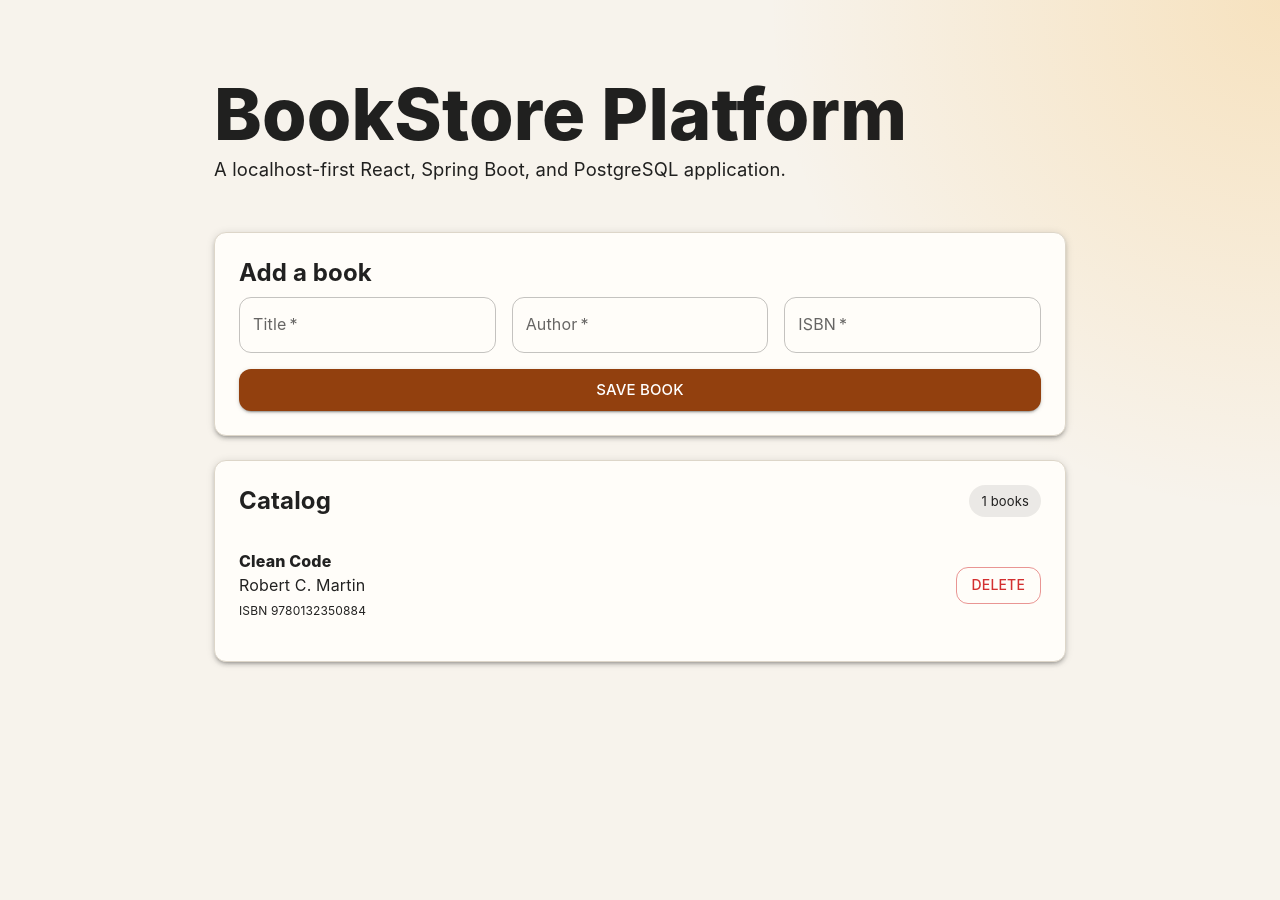
Test: App › shows an error and keeps the book when deletion fails
This screenshot has width=1280, height=900.
Expected: the text "Clean Code" is shown, [239,551,331,571]
Click the button "Delete": (998, 585) [956,567,1041,604]
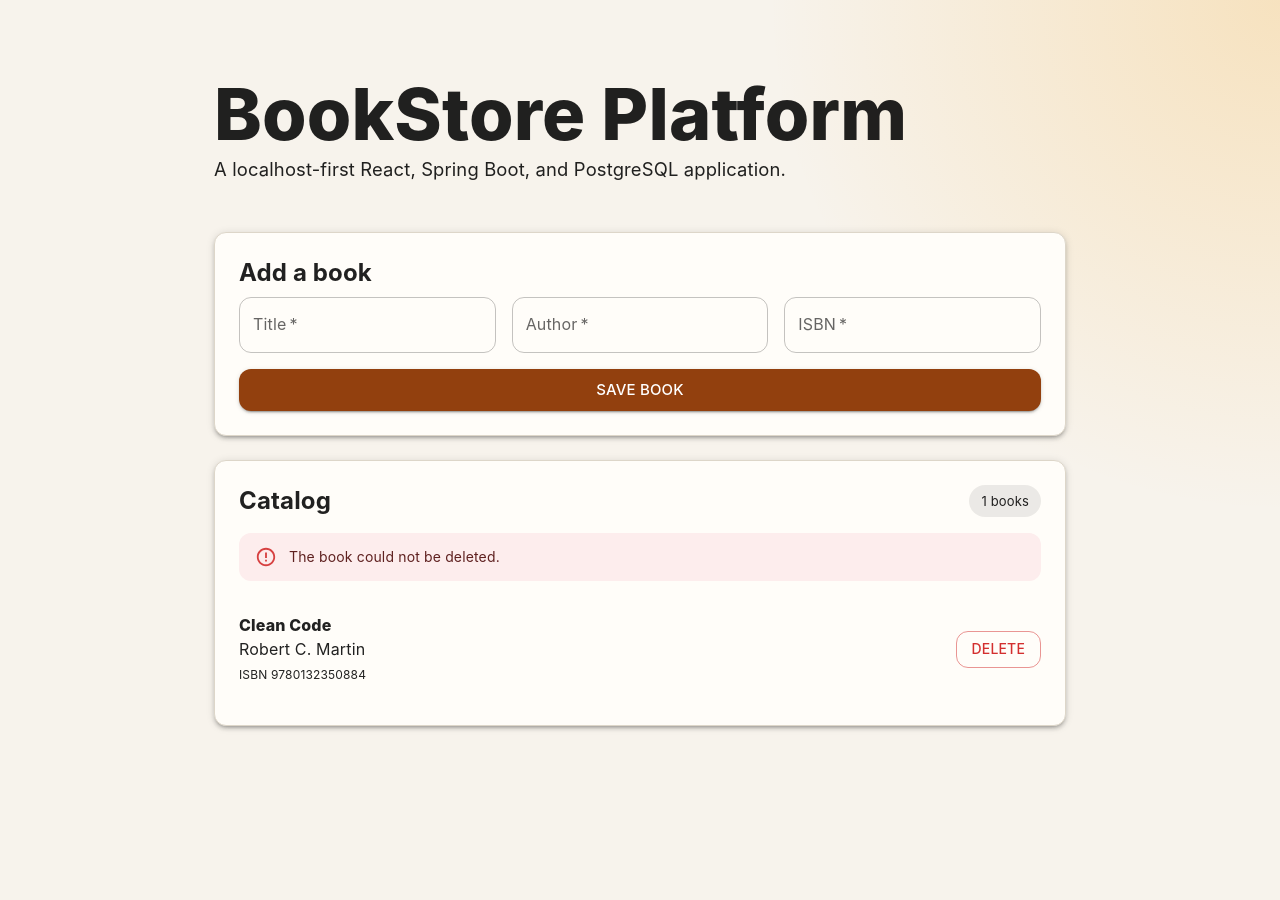
Expected: the text "Clean Code" is shown, [239,615,331,635]
Now the message reads "The book could not be deleted.", box [289,548,500,565]
